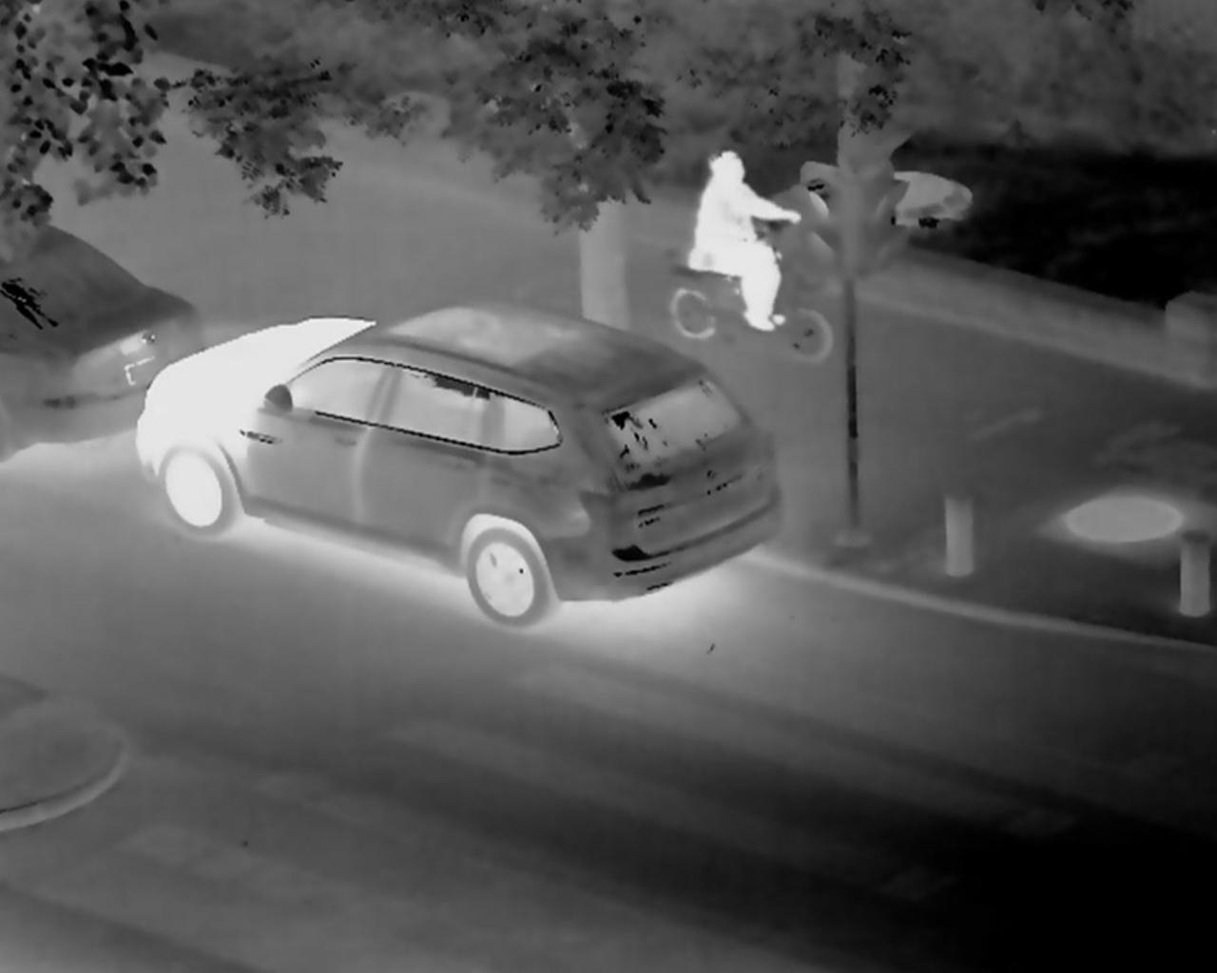person: (686, 148, 809, 319)
